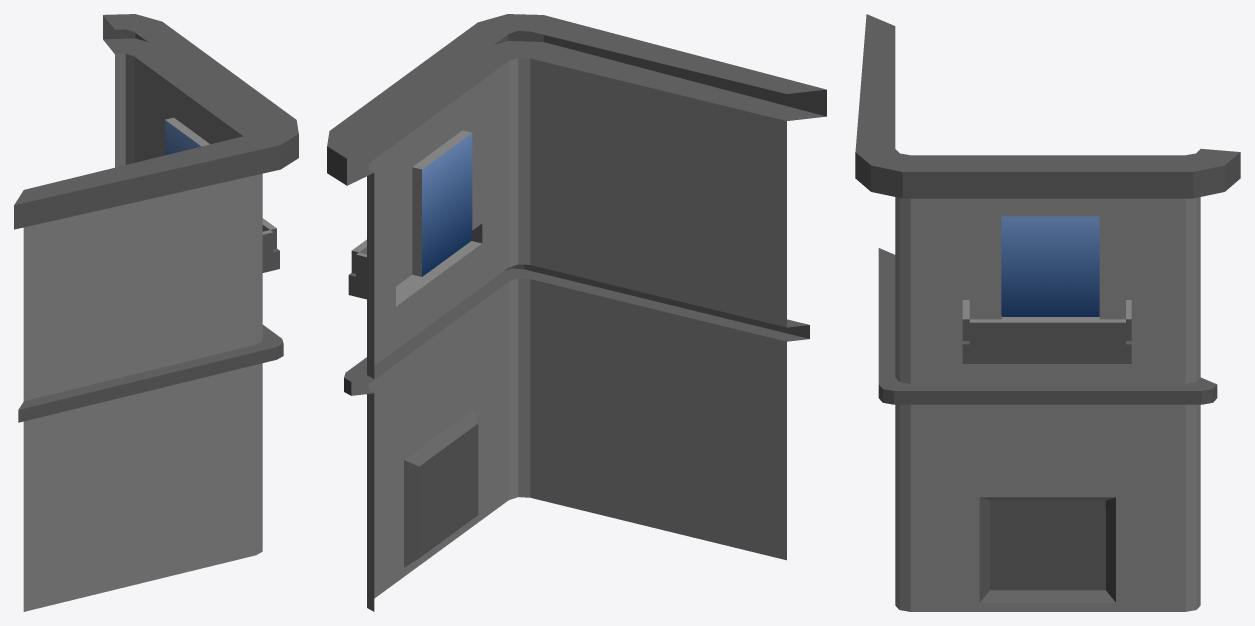
The model's file is gray_house.fbx.
The picture shows the model from 3 angles, left to right: view 1: azimuth 30°, elevation 25°; view 2: azimuth 150°, elevation 25°; view 3: azimuth 270°, elevation 25°; orthographic projection. The views are drawn at different scales.
Visible parts, largest first — view 1: gray_house; view 2: gray_house; view 3: gray_house.
Boxes of the visible parts, x1,y1,x2,y2 form: gray_house: (14, 14, 298, 611); gray_house: (327, 14, 826, 611); gray_house: (855, 14, 1240, 611).
Bounding box in the file's own units: 990 × 1286 × 983.
Materials: 1 (1 with a texture image).
